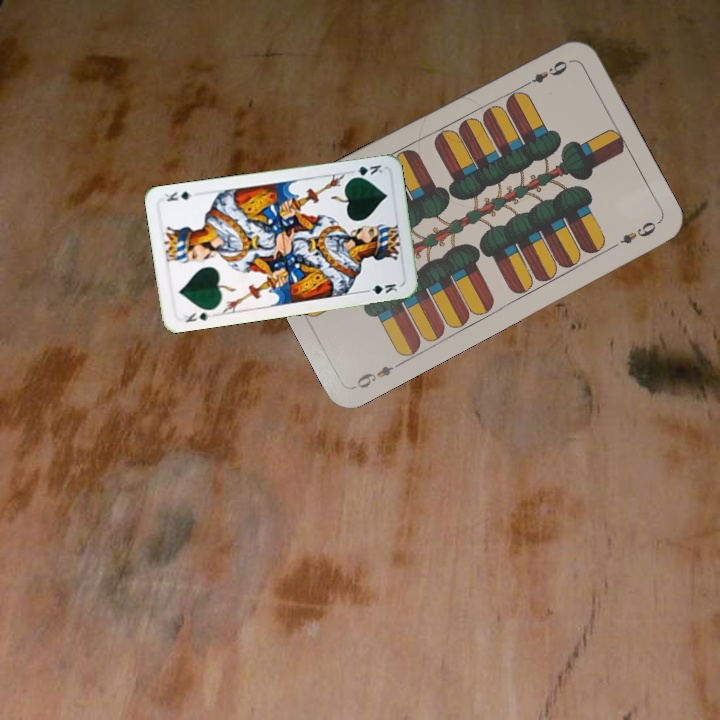E9: (352, 357, 405, 391), (519, 56, 571, 90)
GK: (346, 161, 385, 181), (180, 307, 213, 325)
